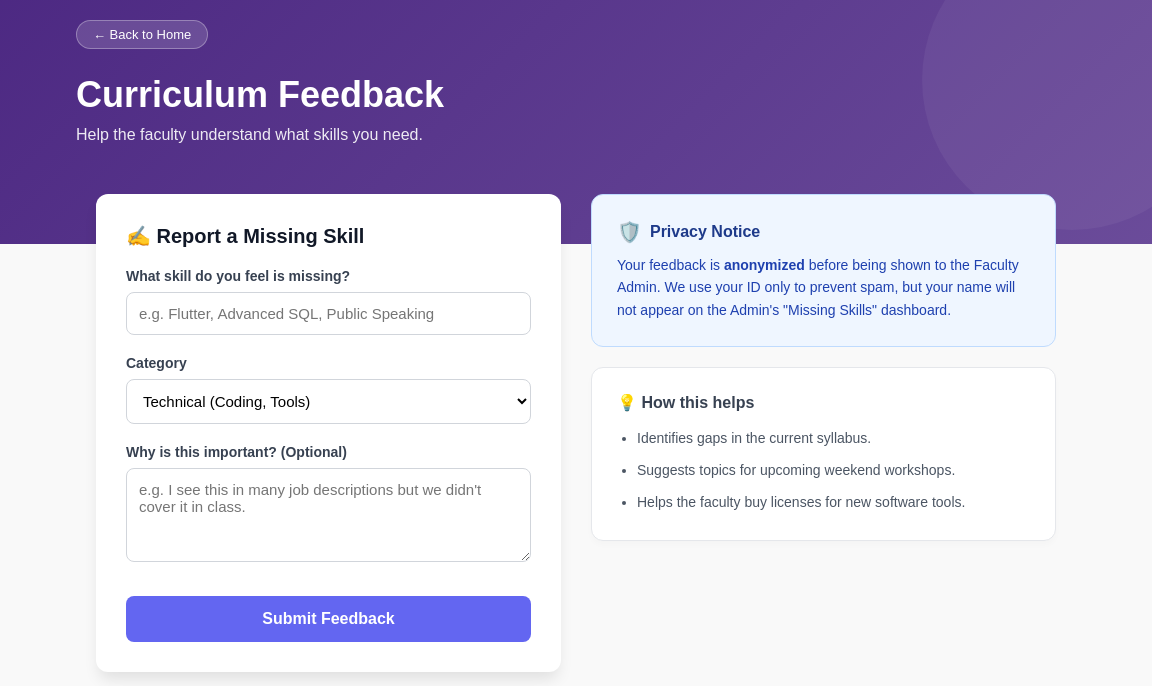
Test: SkillGapInput Component Tests › handles user input and successful submission
Fill the form
Type "Rust Programming" into the field with placeholder "e.g. Flutter, Advanced SQL, Public Speaking" at point(328, 314), box 126,292 -> 531,335
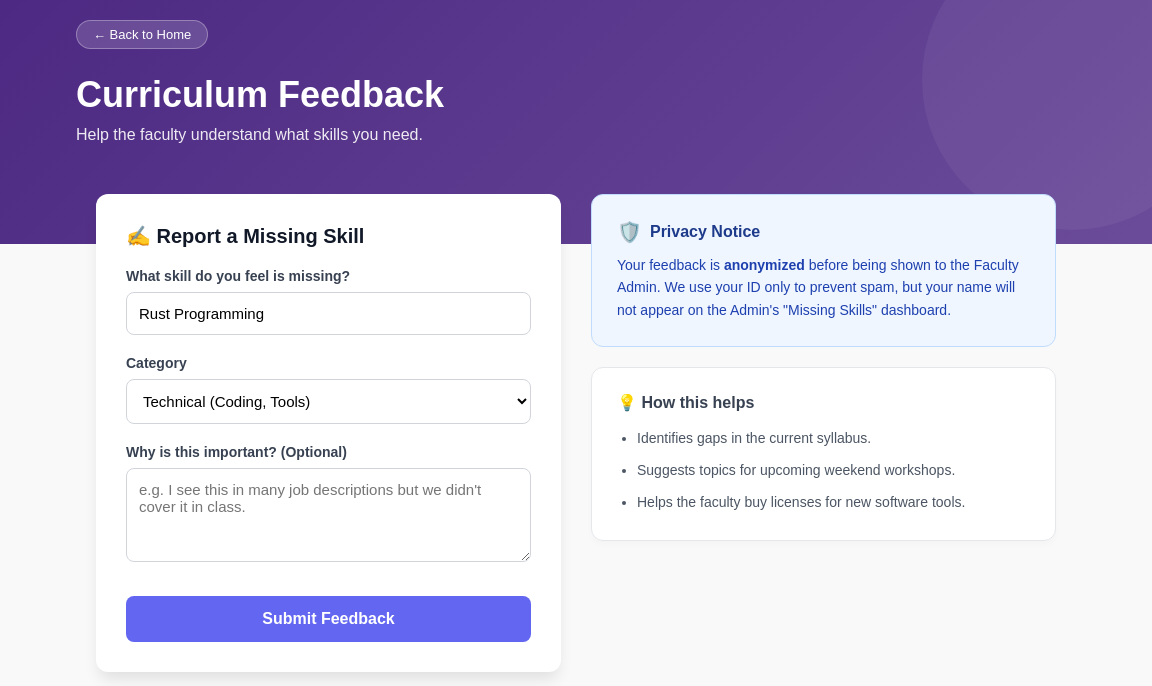
Select "Technical (Coding, Tools)" in the dropdown at point(328, 402), box 126,379 -> 531,424
Replace the text in the text box with placeholder "e.g. I see this in many job descriptions" with "Highly requested in system programming jobs." at point(328, 515), box 126,468 -> 531,562
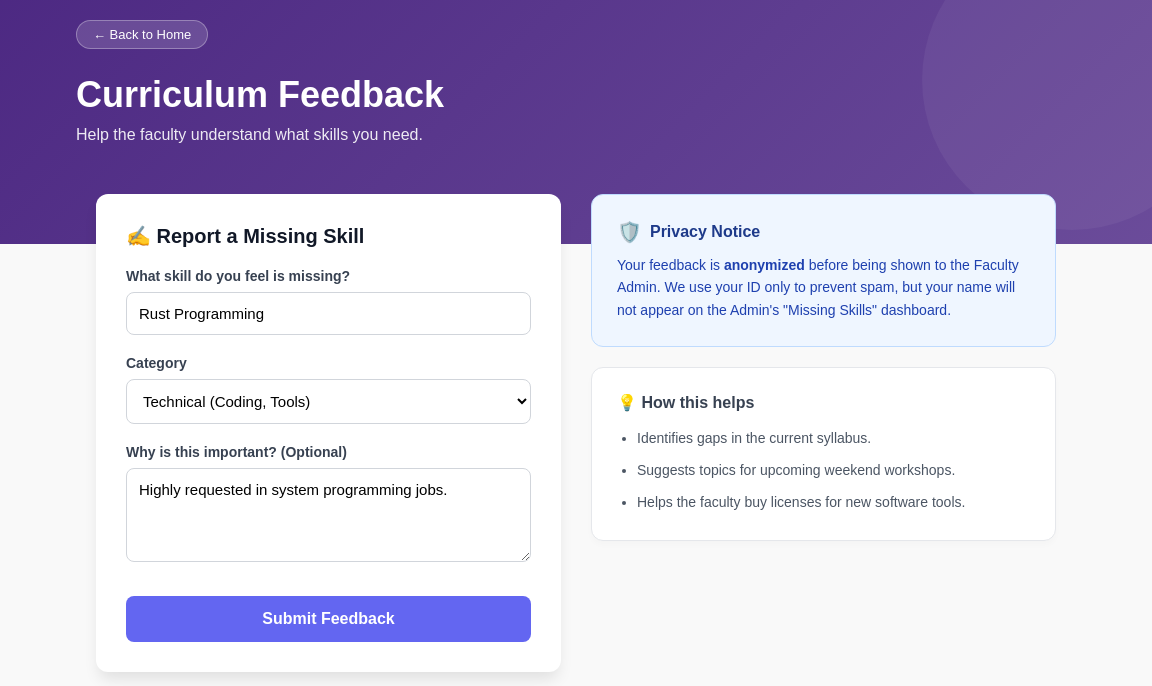
Click the button "Submit Feedback" at point(328, 619), box 126,596 -> 531,642
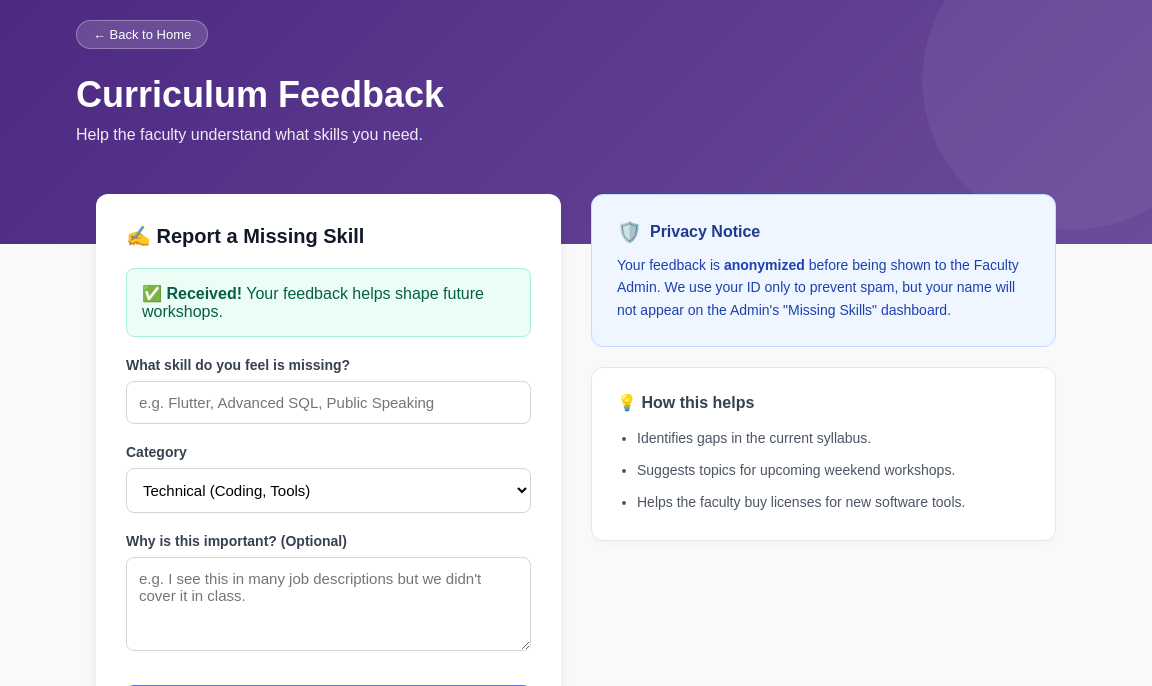
Expected: the text "Received!" is shown, 166,285 -> 242,302
